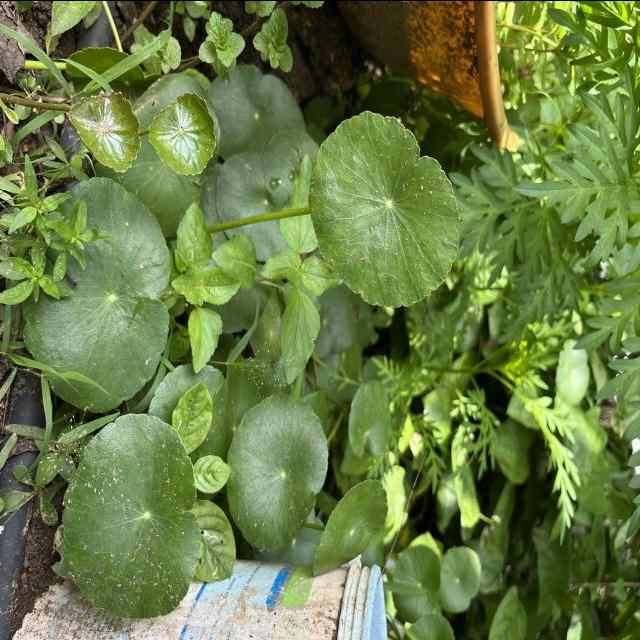Bacopa monnieri: (20, 173, 176, 416), (306, 107, 463, 310), (60, 408, 206, 622), (224, 387, 331, 553), (309, 474, 392, 580), (64, 86, 144, 175), (146, 88, 220, 178)
